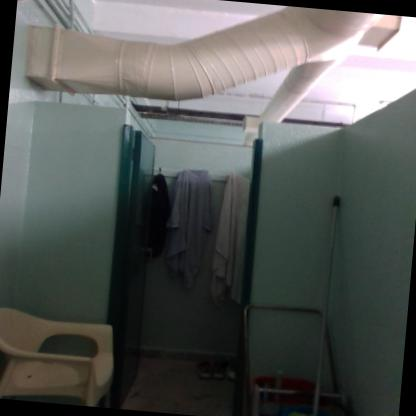open: (95, 93, 279, 388)
